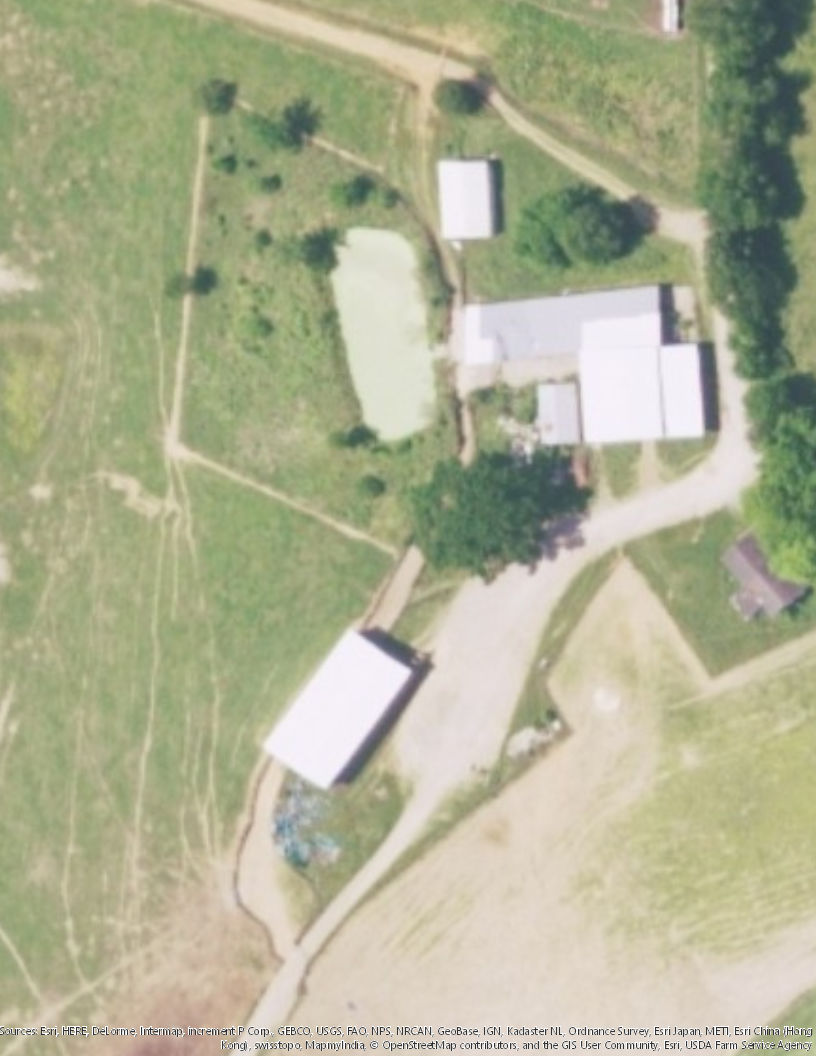cafo: (450, 291, 725, 446), (249, 614, 425, 791), (429, 152, 513, 246)
